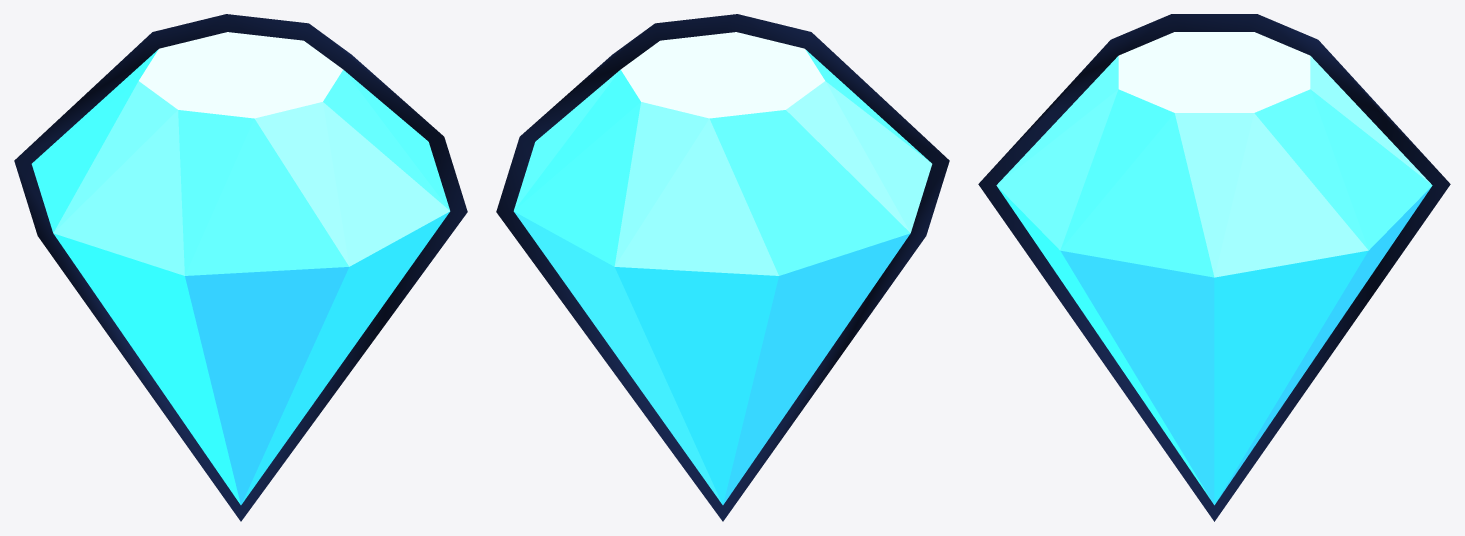
File: PROP_Gem.glb
3 views of the same model, side by side, from view 1: azimuth 30°, elevation 25°; view 2: azimuth 150°, elevation 25°; view 3: azimuth 270°, elevation 25° (orthographic).
Parts seen in each view (by area): view 1: Gem, GemOutline; view 2: Gem, GemOutline; view 3: Gem, GemOutline.
Part boxes in pixels (x1,y1,x2,y2): Gem: (31, 32, 450, 504); GemOutline: (14, 14, 467, 521); Gem: (513, 32, 932, 504); GemOutline: (496, 14, 949, 521); Gem: (996, 32, 1432, 505); GemOutline: (978, 14, 1450, 521).
Bounding box in the file's own units: 0.9098 × 0.986 × 0.9098.
